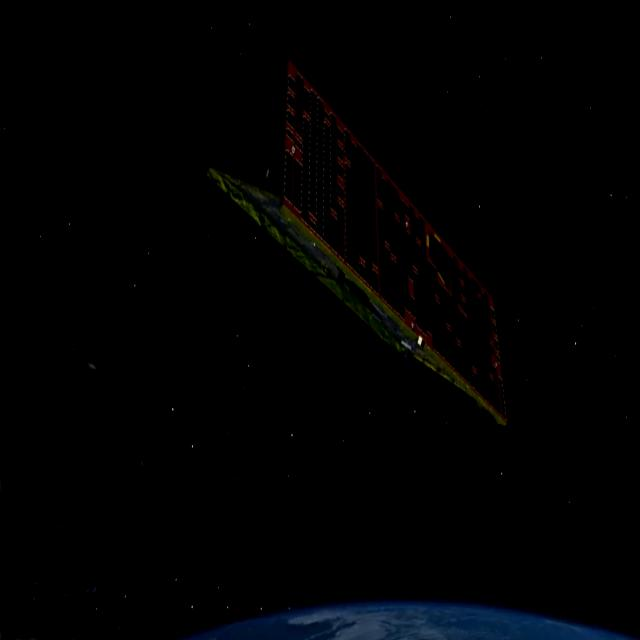satellite: (183, 6, 547, 489)
